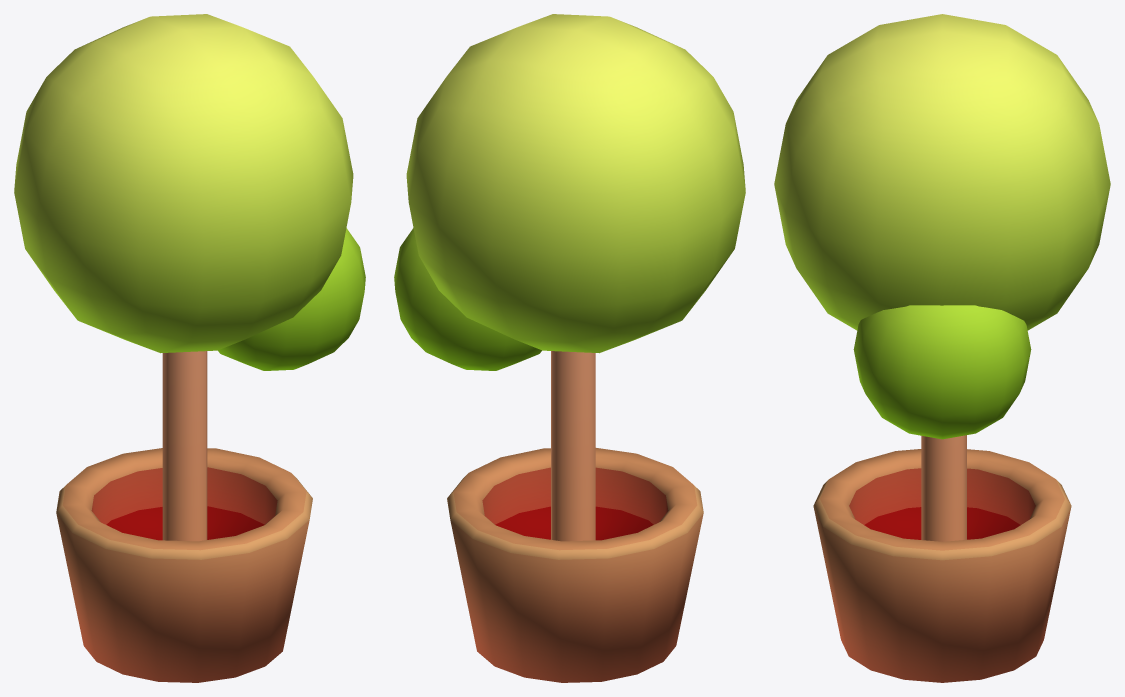
File: Arbre1.fbx
The picture shows the model from 3 angles, left to right: view 1: azimuth 30°, elevation 25°; view 2: azimuth 150°, elevation 25°; view 3: azimuth 270°, elevation 25°; orthographic projection.
Visible parts, largest first — view 1: Cube.002; view 2: Cube.002; view 3: Cube.002.
Boxes of the visible parts, left/top/right/bottom form: Cube.002: left=14, top=14, right=365, bottom=682; Cube.002: left=394, top=14, right=745, bottom=682; Cube.002: left=774, top=14, right=1110, bottom=682.
Bounding box in the file's own units: 209 × 386 × 194.
